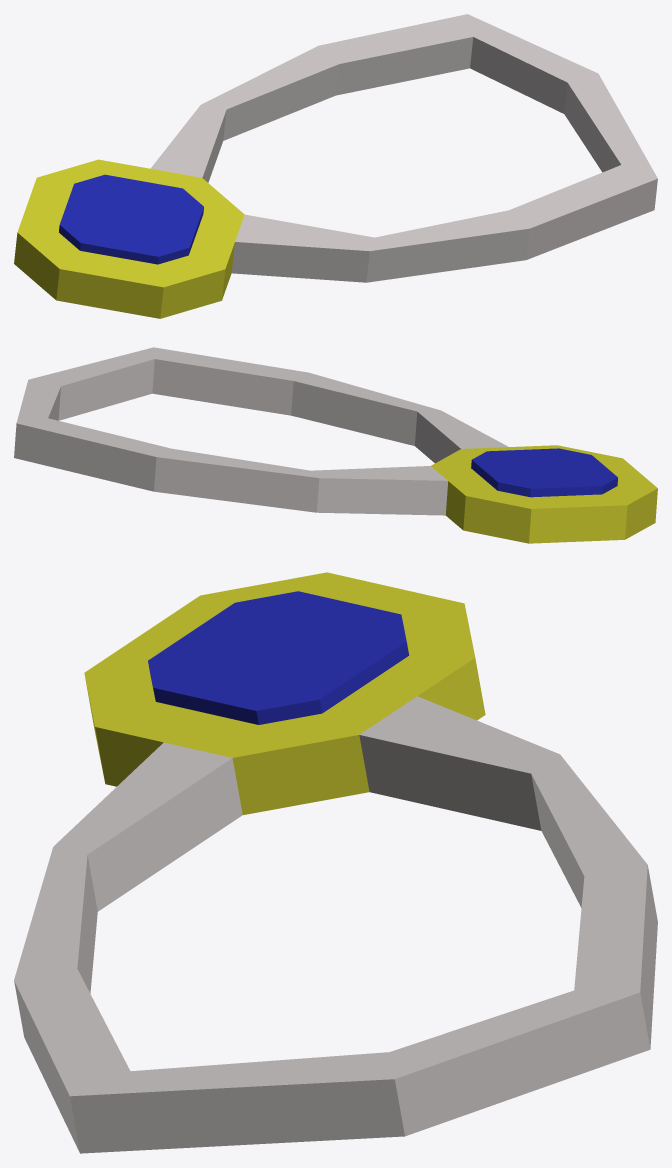
Rendered from outfit_sapphire_necklace.glb.
3 views of the same model, one above another, from view 1: azimuth 30°, elevation 25°; view 2: azimuth 150°, elevation 25°; view 3: azimuth 270°, elevation 25° (orthographic). The views are drawn at different scales.
Parts seen in each view (by area): view 1: outfit_sapphire_necklace; view 2: outfit_sapphire_necklace; view 3: outfit_sapphire_necklace.
Part boxes in pixels (x1,y1,x2,y2): outfit_sapphire_necklace: [14, 14, 657, 318]; outfit_sapphire_necklace: [14, 347, 657, 543]; outfit_sapphire_necklace: [14, 572, 657, 1153].
Bounding box in the file's own units: 2.15 × 0.3 × 1.16.
